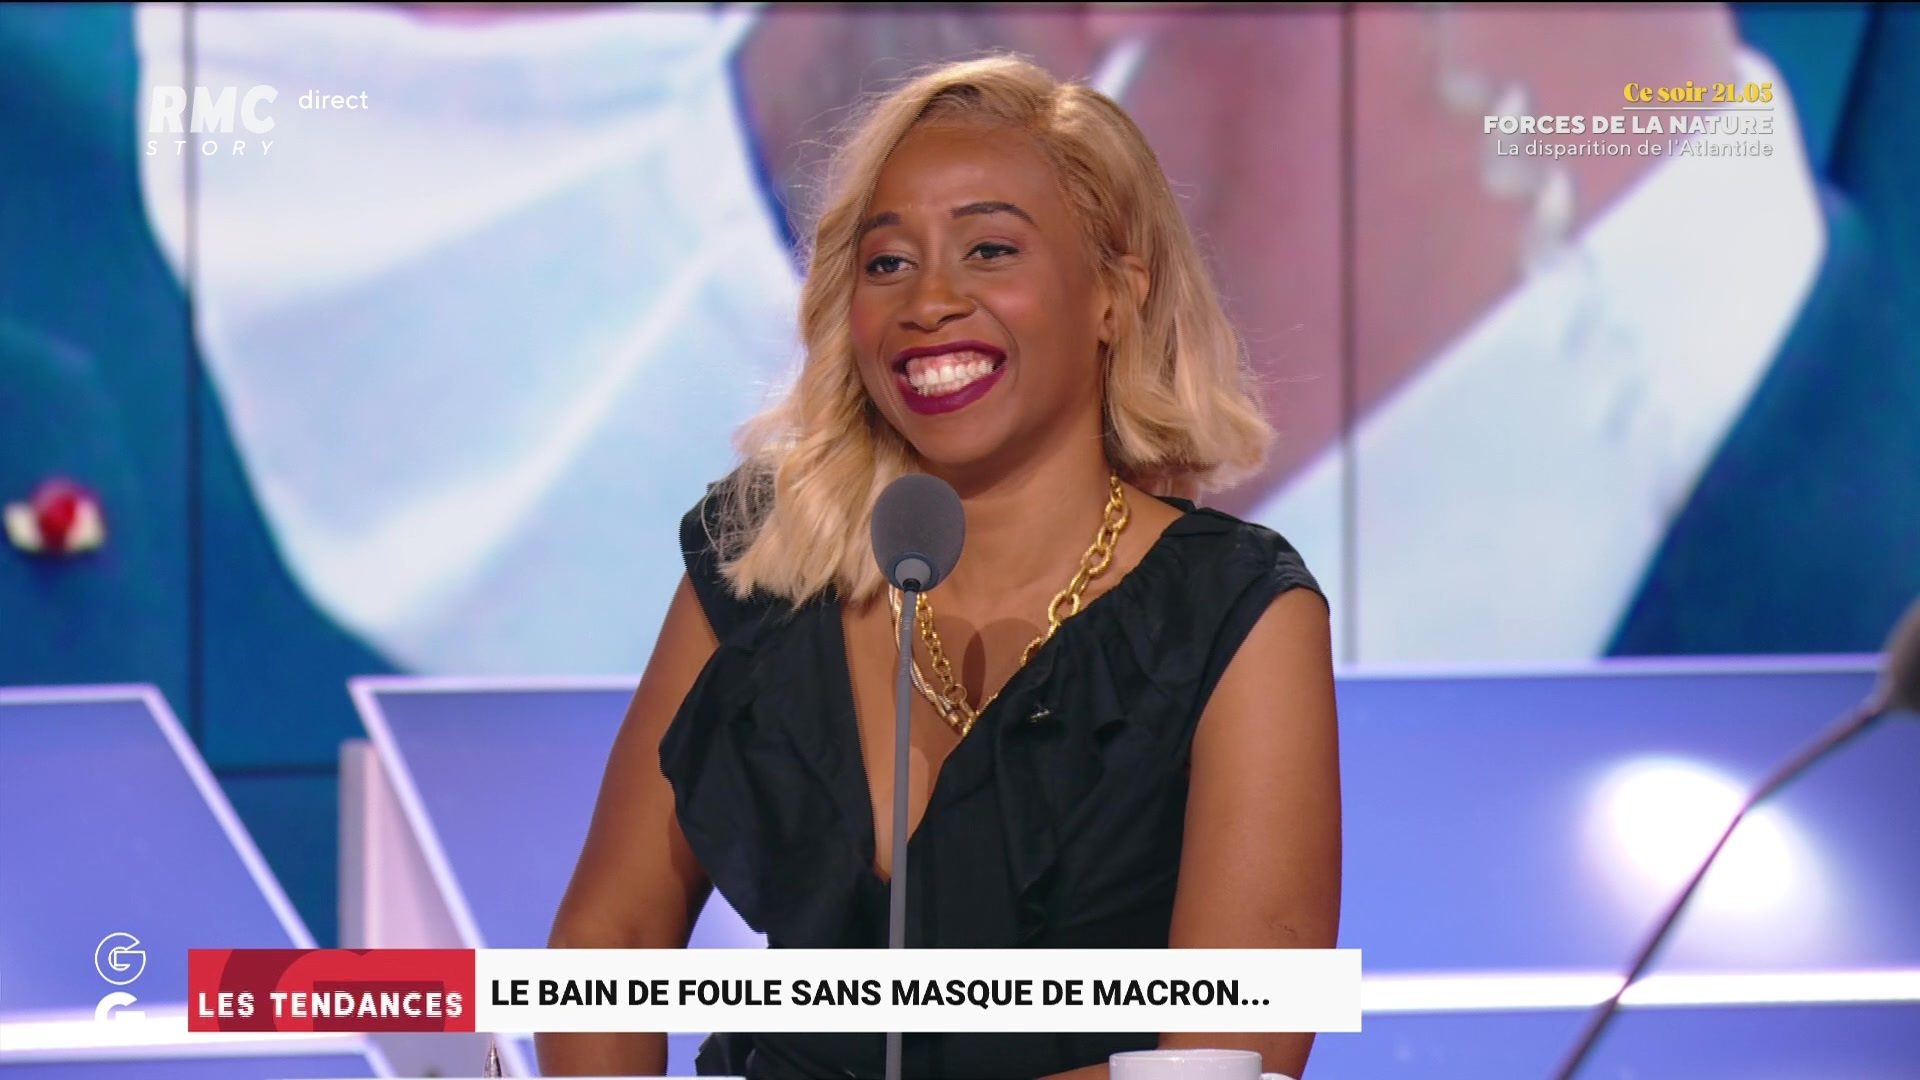without_mask: (848, 192, 1083, 444)
